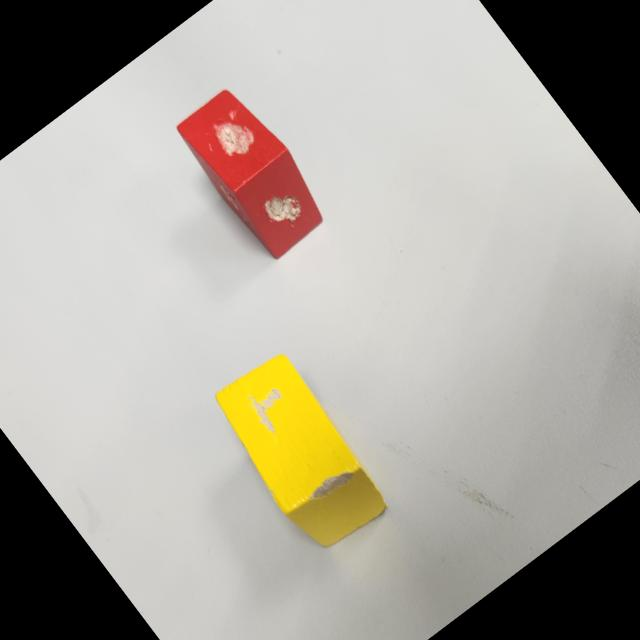broken: (202, 345, 398, 560), (168, 79, 340, 266)
